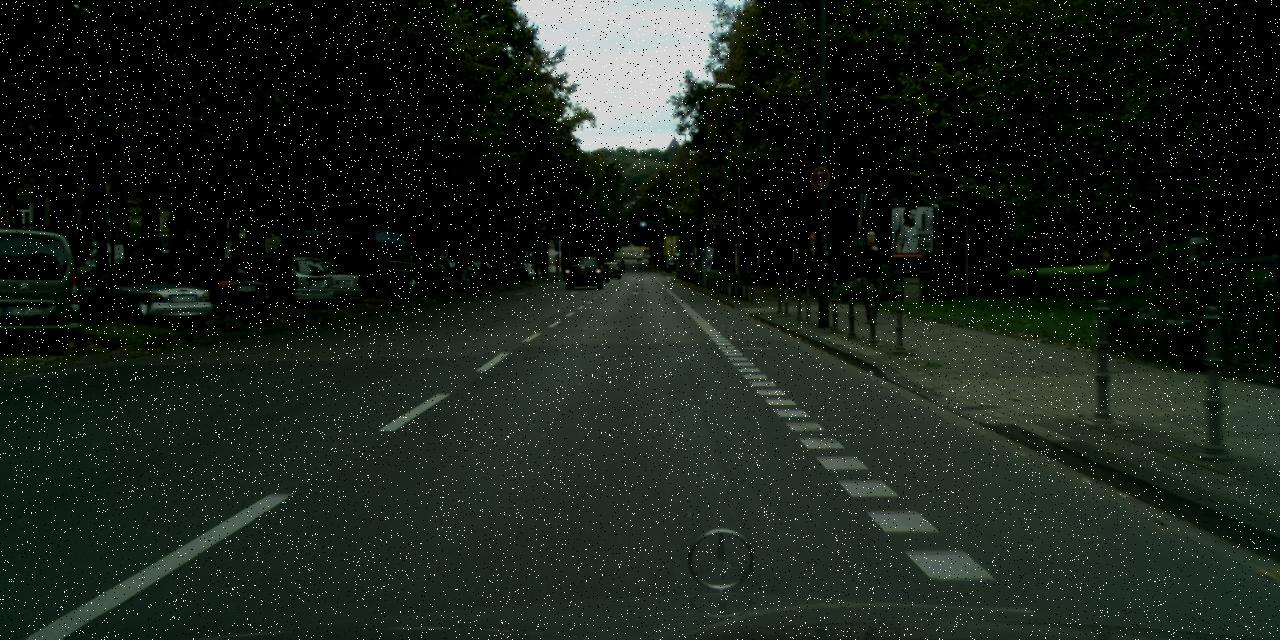ped: (852, 229, 889, 323), (687, 260, 695, 278), (620, 260, 626, 269), (647, 258, 649, 264)
